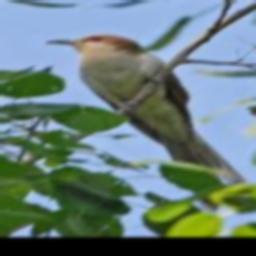Cuckoo: (44, 34, 245, 211)
